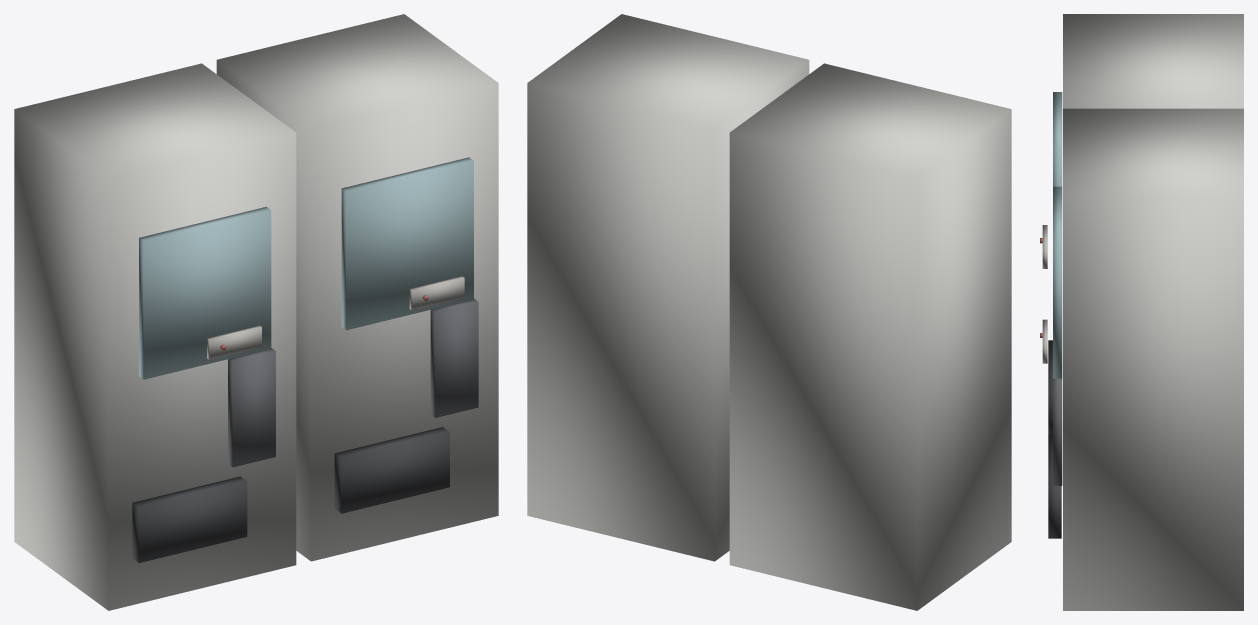
Rendered from motel_ice_machine__cluster.glb.
3 views of the same model, side by side, from view 1: azimuth 30°, elevation 25°; view 2: azimuth 150°, elevation 25°; view 3: azimuth 270°, elevation 25° (orthographic). The views are drawn at different scales.
Visible parts, largest first — view 1: world; view 2: world; view 3: world.
Boxes of the visible parts, x1,y1,x2,y2 form: world: (14,14,498,610); world: (527,14,1011,610); world: (1040,14,1243,610).
Bounding box in the file's own units: 1.62 × 1.72 × 0.766.
